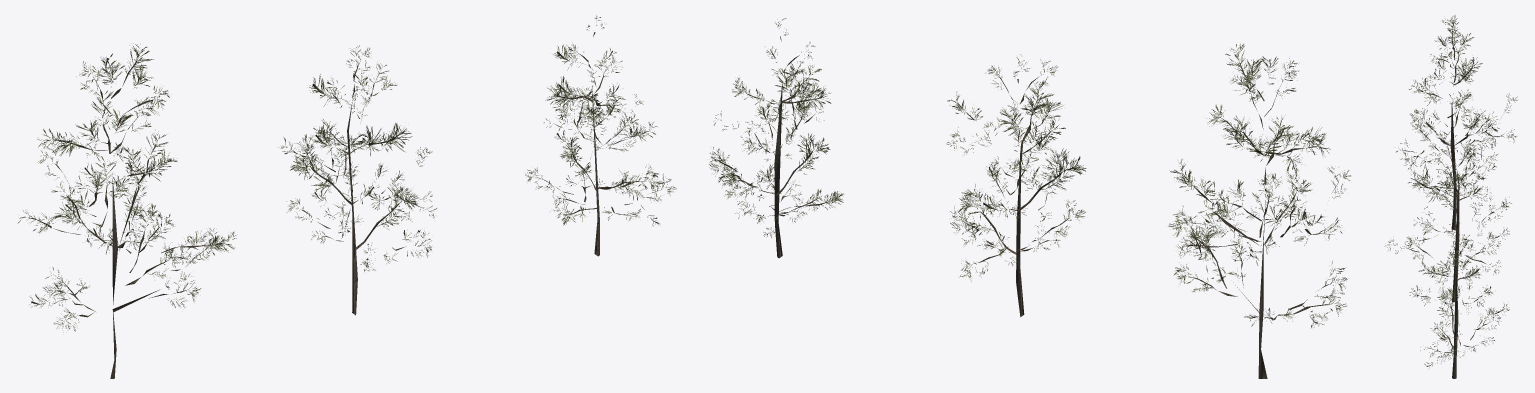
File: ph_pine_sapling_small_lod0.glb
3 views of the same model, side by side, from view 1: azimuth 30°, elevation 25°; view 2: azimuth 150°, elevation 25°; view 3: azimuth 270°, elevation 25° (orthographic). The views are drawn at different scales.
Parts seen in each view (by area): view 1: pine_sapling_small_a, pine_sapling_small_b, pine_sapling_small_c; view 2: pine_sapling_small_a, pine_sapling_small_b, pine_sapling_small_c; view 3: pine_sapling_small_a, pine_sapling_small_b, pine_sapling_small_c.
Part boxes in pixels (left/top/right/bottom): pine_sapling_small_a: left=17, top=44, right=236, bottom=378; pine_sapling_small_b: left=278, top=45, right=436, bottom=315; pine_sapling_small_c: left=525, top=15, right=676, bottom=256; pine_sapling_small_a: left=1168, top=43, right=1350, bottom=378; pine_sapling_small_b: left=946, top=54, right=1086, bottom=317; pine_sapling_small_c: left=709, top=18, right=843, bottom=258; pine_sapling_small_a: left=1396, top=15, right=1517, bottom=230; pine_sapling_small_b: left=1385, top=135, right=1511, bottom=302; pine_sapling_small_c: left=1409, top=224, right=1509, bottom=378.
Bounding box in the file's own units: 2.63 × 1.3 × 0.7677.
Materials: 2 (2 with a texture image).
